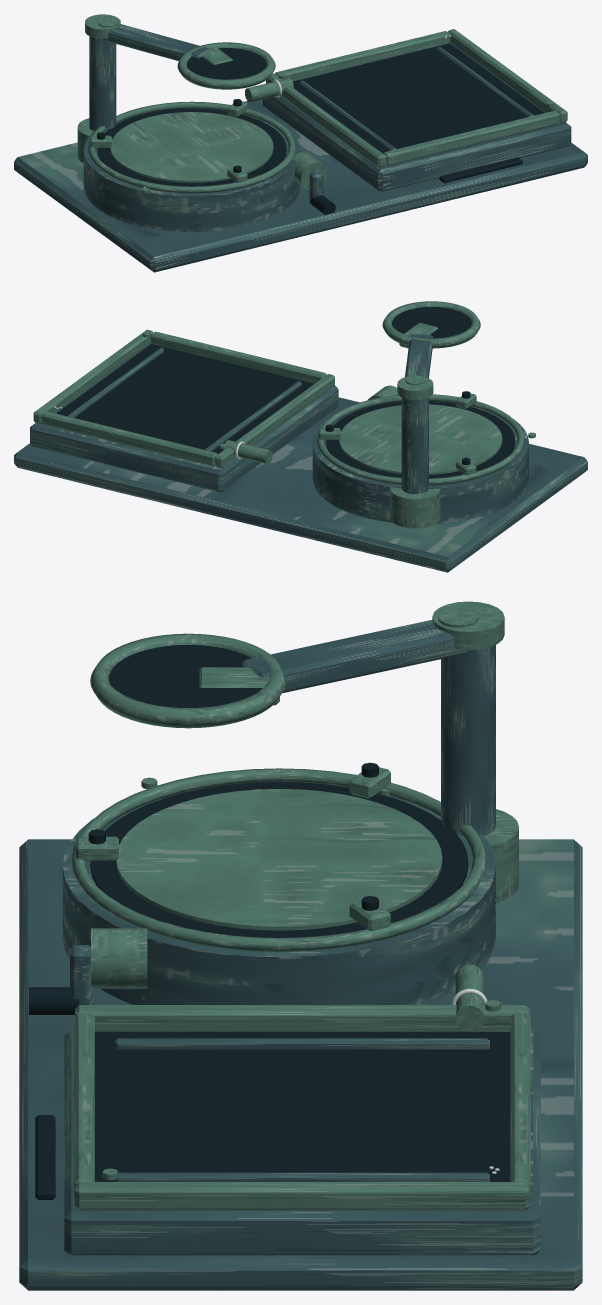
File: SM_C1_Signature_Reader.glb
3 views of the same model, one above another, from view 1: azimuth 30°, elevation 25°; view 2: azimuth 150°, elevation 25°; view 3: azimuth 270°, elevation 25° (orthographic). The views are drawn at different scales.
Visible parts, largest first — view 1: SM_C1_Signature_Reader_Casting, SM_C1_Signature_Reader_Patina, SM_C1_Signature_Reader_Recess; view 2: SM_C1_Signature_Reader_Casting, SM_C1_Signature_Reader_Patina, SM_C1_Signature_Reader_Recess; view 3: SM_C1_Signature_Reader_Casting, SM_C1_Signature_Reader_Patina, SM_C1_Signature_Reader_Recess.
Boxes of the visible parts, x1,y1,x2,y2 form: SM_C1_Signature_Reader_Casting: [14, 24, 587, 272]; SM_C1_Signature_Reader_Patina: [77, 14, 567, 193]; SM_C1_Signature_Reader_Recess: [97, 43, 544, 214]; SM_C1_Signature_Reader_Casting: [14, 334, 587, 572]; SM_C1_Signature_Reader_Patina: [33, 301, 535, 528]; SM_C1_Signature_Reader_Recess: [56, 307, 515, 478]; SM_C1_Signature_Reader_Casting: [19, 620, 582, 1290]; SM_C1_Signature_Reader_Patina: [71, 601, 530, 1210]; SM_C1_Signature_Reader_Recess: [29, 644, 510, 1199].
Size of the model in its own units: 0.7 by 0.24 by 0.39.
4 materials, 2 textured.
